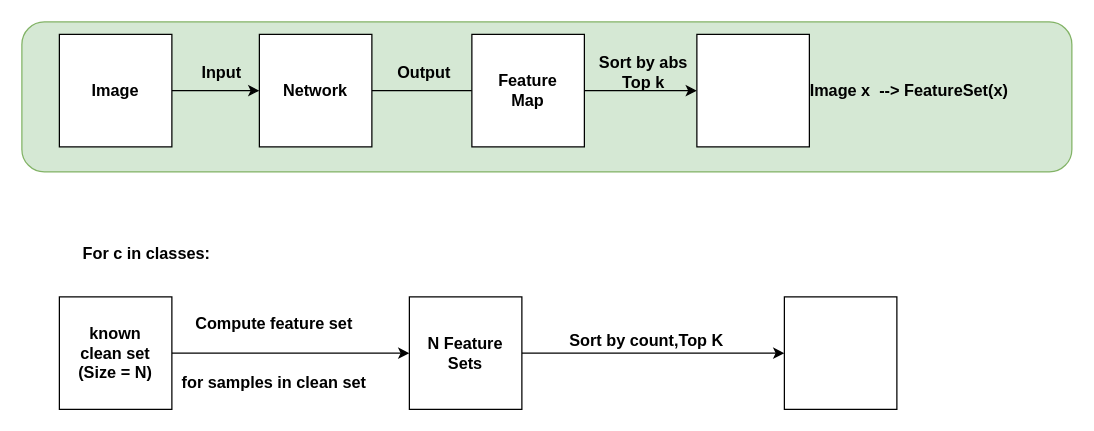
Some shapes in this 1094 by 431 pixel diagram are drawn without their labels. The shapes that lost their labels are listed below. From the top down, each one's box as (x1, y1, x2, y2) in pixels, then its label:
(696, 33, 809, 147): Feature Set
(783, 296, 897, 409): N Feature Set
